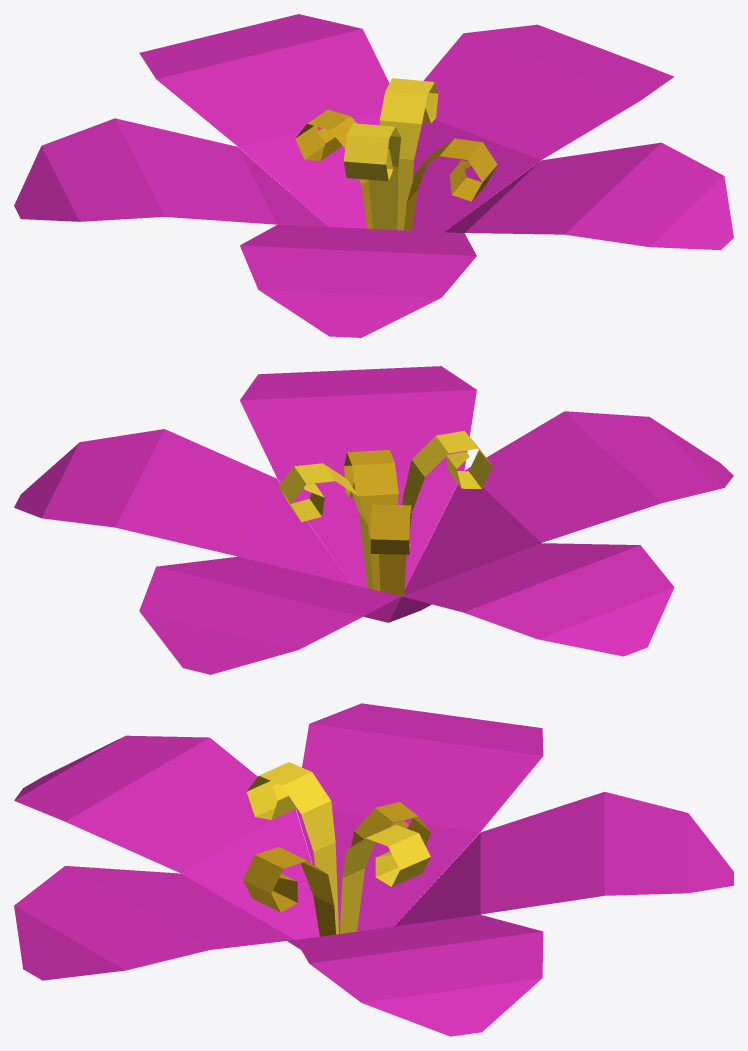
Rendered from flowerPlosk.fbx.
3 views of the same model, one above another, from view 1: azimuth 30°, elevation 25°; view 2: azimuth 150°, elevation 25°; view 3: azimuth 270°, elevation 25° (orthographic). The views are drawn at different scales.
Parts seen in each view (by area): view 1: Plane.008; view 2: Plane.008; view 3: Plane.008.
Boxes of the visible parts, <box> form: Plane.008: <box>14,14,733,337</box>; Plane.008: <box>14,366,733,674</box>; Plane.008: <box>14,703,733,1036</box>.
Bounding box in the file's own units: 608 × 143 × 585.
